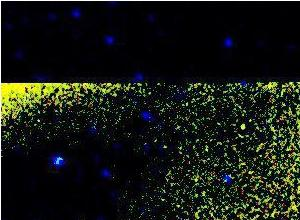star: (228, 114, 258, 144)
